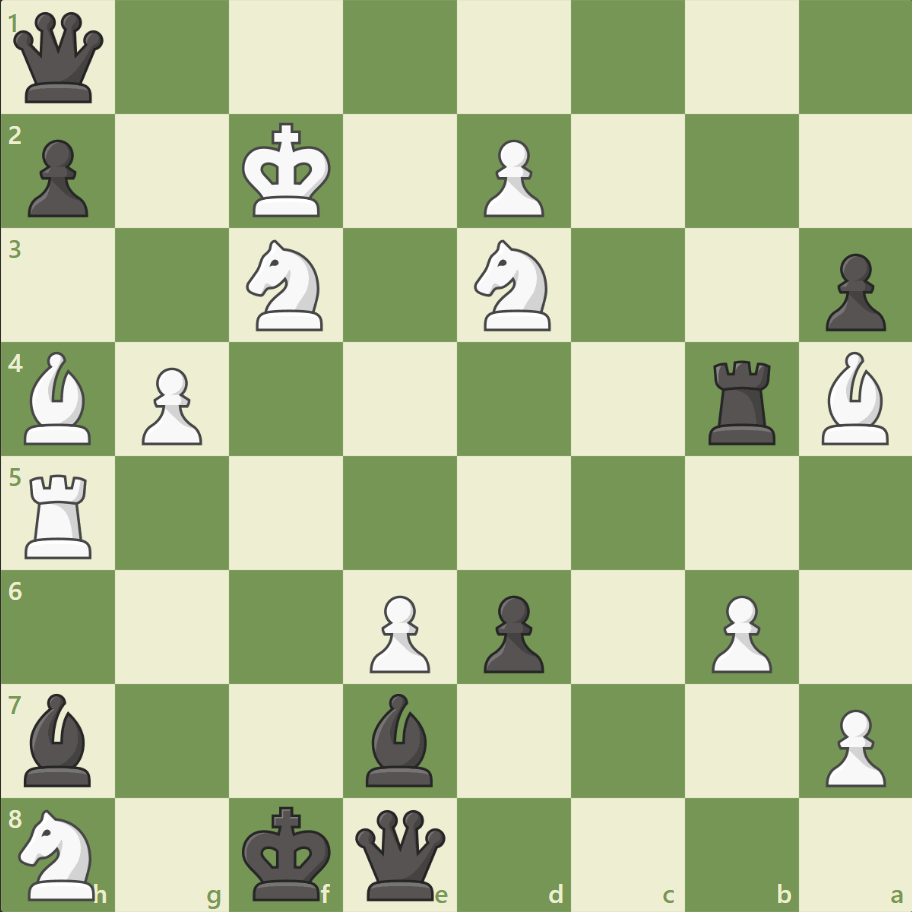B: (812, 347, 896, 449), (17, 347, 101, 449)
K: (238, 117, 338, 225)
N: (465, 234, 562, 337), (238, 234, 335, 337), (11, 802, 108, 904)
P: (701, 586, 776, 677), (133, 359, 208, 450), (474, 132, 549, 223), (815, 700, 889, 791), (361, 586, 435, 677)
R: (19, 466, 102, 563)
b: (358, 687, 442, 790), (17, 687, 101, 790)
k: (238, 798, 338, 906)
p: (474, 586, 549, 677), (20, 132, 95, 223), (815, 246, 889, 337)
q: (351, 804, 450, 903), (10, 9, 109, 108)
r: (700, 352, 783, 449)
